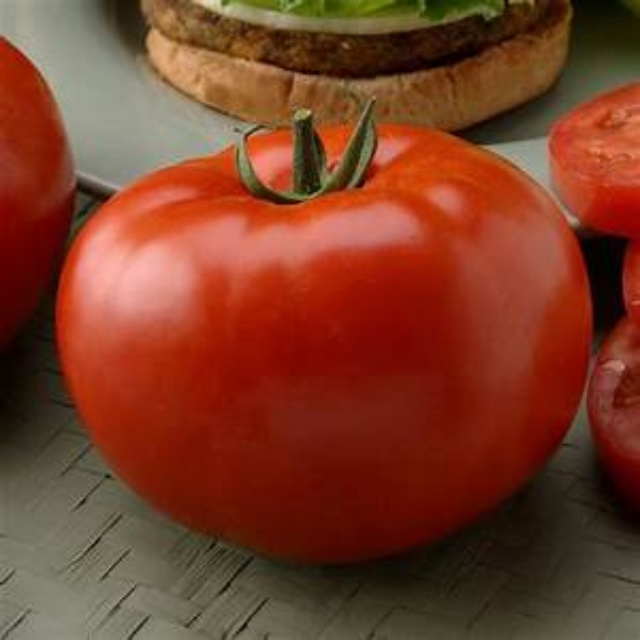tomato: (52, 103, 596, 567)
